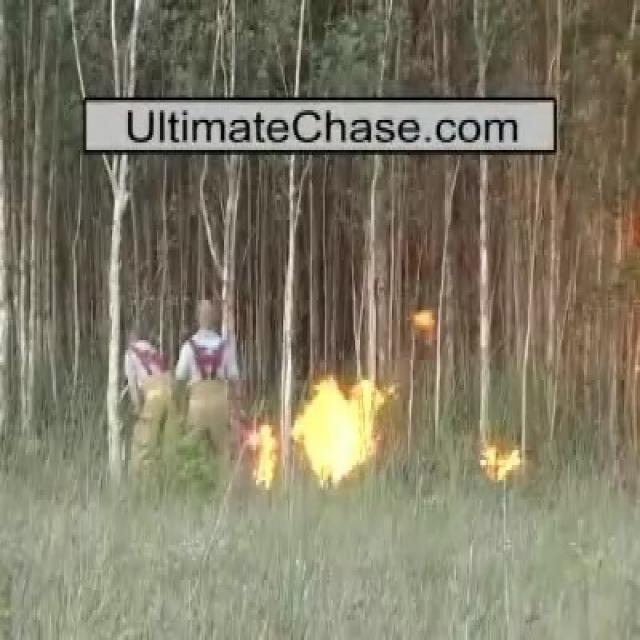fire: (252, 384, 381, 489), (481, 442, 520, 482)
